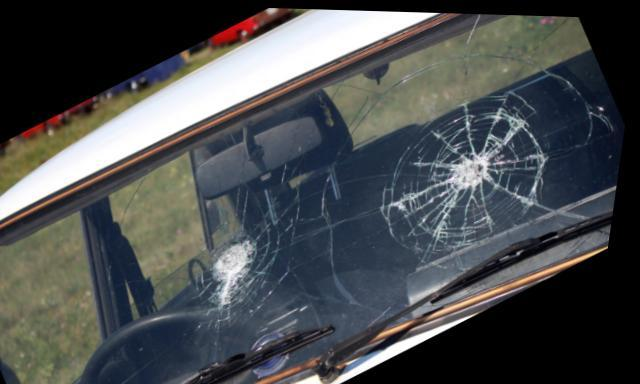glass shatter: (0, 11, 628, 384)
